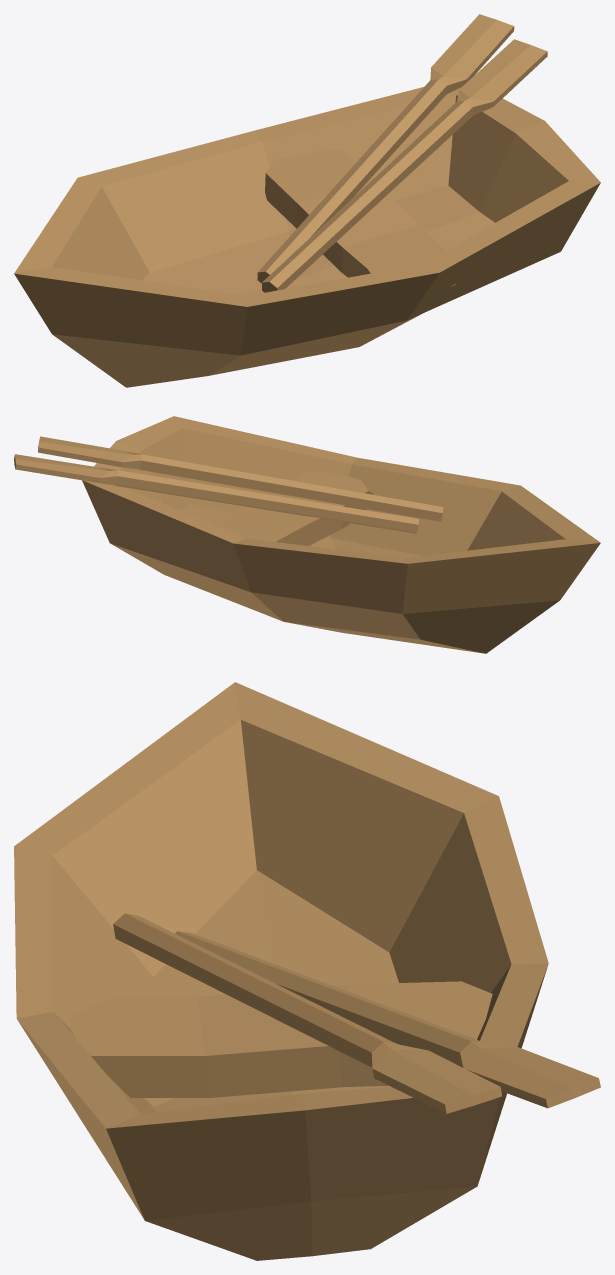
File: Boat_002.fbx
3 views of the same model, one above another, from view 1: azimuth 30°, elevation 25°; view 2: azimuth 150°, elevation 25°; view 3: azimuth 270°, elevation 25° (orthographic). The views are drawn at different scales.
Parts seen in each view (by area): view 1: Boat.002; view 2: Boat.002; view 3: Boat.002.
Part boxes in pixels (box(x1,y1,x2,y2)): Boat.002: box(14, 14, 600, 387); Boat.002: box(14, 416, 600, 653); Boat.002: box(14, 682, 600, 1260).
Size of the model in its own units: 277 by 87.29 by 147.
